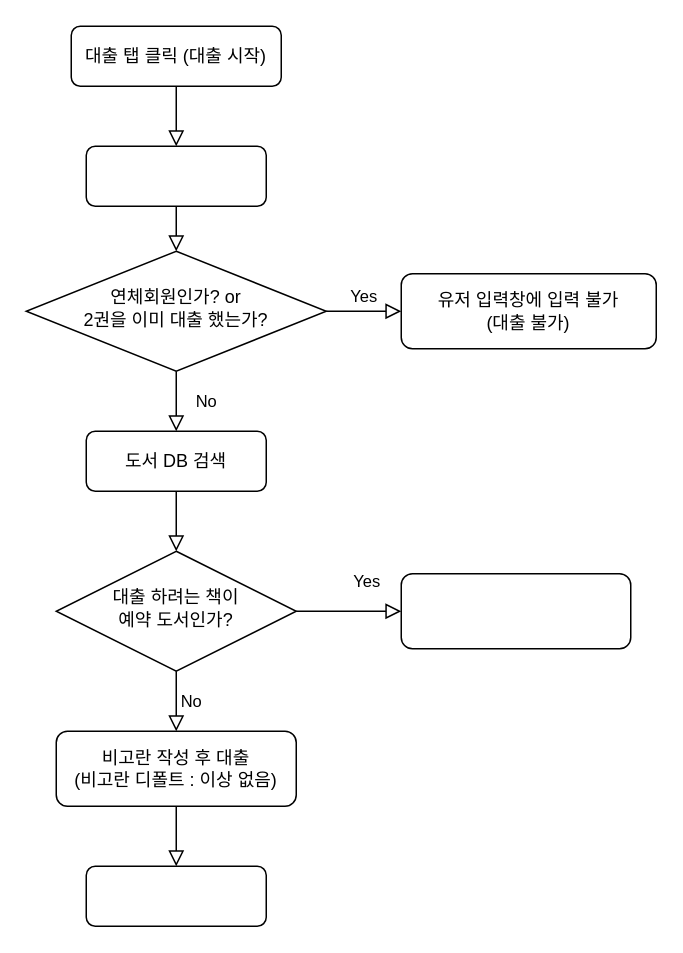
The diagram is 683 pixels wide and 953 high, and some of its shapes have lost their labels. Each missing label, with the centre of its shape:
대출 완료: [175,895]
도서 입력창에 입력 불가 (대출 불가): [515,610]
유저 검색: [175,175]
